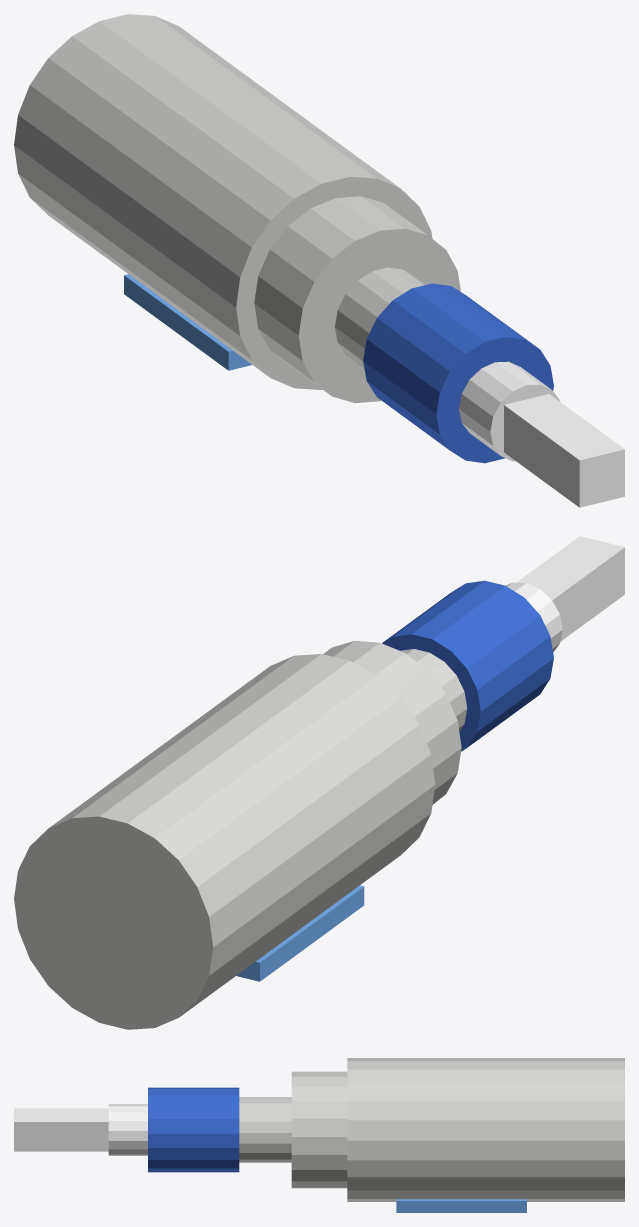
The model's file is 05_small_dropper_bottle.obj.
3 renders of one model, top to bottom at view 1: azimuth 30°, elevation 25°; view 2: azimuth 150°, elevation 25°; view 3: azimuth 270°, elevation 25°, orthographic. The views are drawn at different scales.
Parts seen in each view (by area): view 1: small_dropper_bottle_body, small_dropper_bottle_shoulder, small_dropper_bottle_cap, small_dropper_bottle_nozzle_tip, small_dropper_bottle_nozzle_base, small_dropper_bottle_neck, small_dropper_bottle_label_front; view 2: small_dropper_bottle_body, small_dropper_bottle_cap, small_dropper_bottle_shoulder, small_dropper_bottle_nozzle_tip, small_dropper_bottle_label_front, small_dropper_bottle_neck, small_dropper_bottle_nozzle_base; view 3: small_dropper_bottle_body, small_dropper_bottle_cap, small_dropper_bottle_shoulder, small_dropper_bottle_nozzle_tip, small_dropper_bottle_neck, small_dropper_bottle_nozzle_base, small_dropper_bottle_label_front.
Part boxes in pixels (box(x1,y1,x2,y2)): small_dropper_bottle_body: box(14, 14, 432, 389); small_dropper_bottle_shoulder: box(254, 196, 460, 403); small_dropper_bottle_cap: box(363, 283, 553, 463); small_dropper_bottle_nozzle_tip: box(504, 394, 624, 507); small_dropper_bottle_nozzle_base: box(459, 361, 560, 461); small_dropper_bottle_neck: box(335, 267, 425, 368); small_dropper_bottle_label_front: box(124, 274, 251, 370); small_dropper_bottle_body: box(14, 654, 435, 1029); small_dropper_bottle_cap: box(382, 580, 553, 751); small_dropper_bottle_shoulder: box(323, 640, 461, 804); small_dropper_bottle_nozzle_tip: box(516, 536, 624, 641); small_dropper_bottle_label_front: box(236, 885, 364, 981); small_dropper_bottle_neck: box(400, 649, 467, 731); small_dropper_bottle_nozzle_base: box(506, 582, 562, 652); small_dropper_bottle_body: box(347, 1058, 624, 1201); small_dropper_bottle_cap: box(148, 1087, 239, 1172); small_dropper_bottle_shoulder: box(291, 1071, 347, 1188); small_dropper_bottle_nozzle_tip: box(14, 1108, 108, 1151); small_dropper_bottle_neck: box(239, 1097, 291, 1162); small_dropper_bottle_nozzle_base: box(108, 1104, 147, 1155); small_dropper_bottle_label_front: box(396, 1199, 526, 1212).
Size of the model in its own units: 0.044 by 0.0436 by 0.187.
